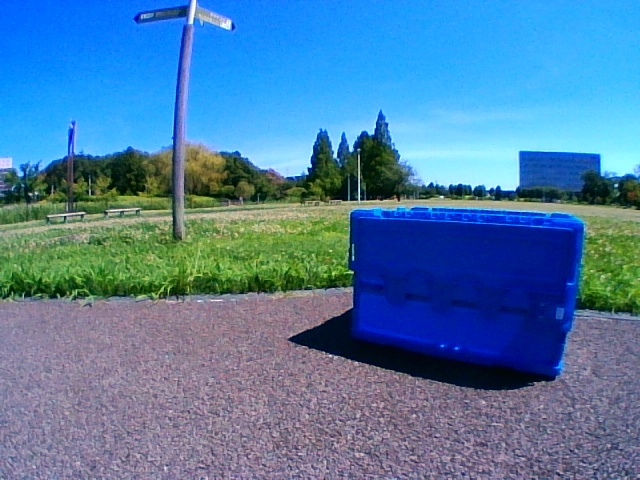blue_box: (349, 206, 584, 379)
